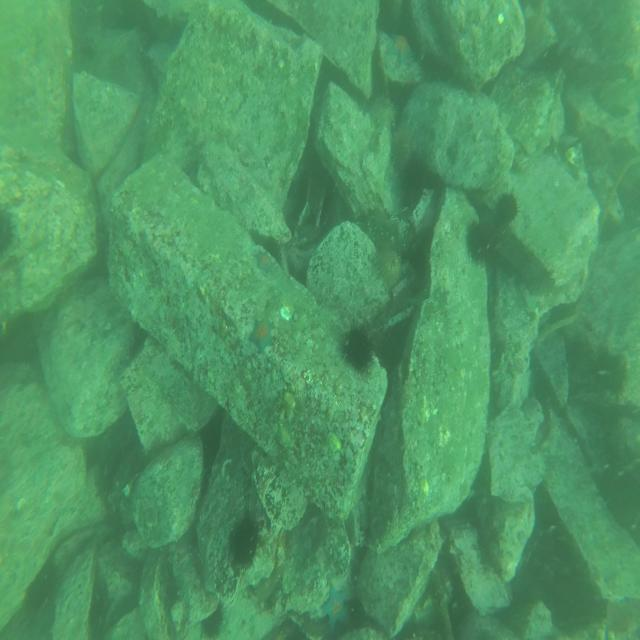echinus: (227, 514, 261, 566), (398, 154, 426, 207), (343, 324, 373, 372), (602, 350, 628, 396), (468, 220, 492, 261), (495, 191, 520, 227), (379, 248, 402, 284), (0, 207, 15, 257)
starfish: (250, 318, 274, 358), (386, 32, 412, 68), (254, 249, 276, 279)
